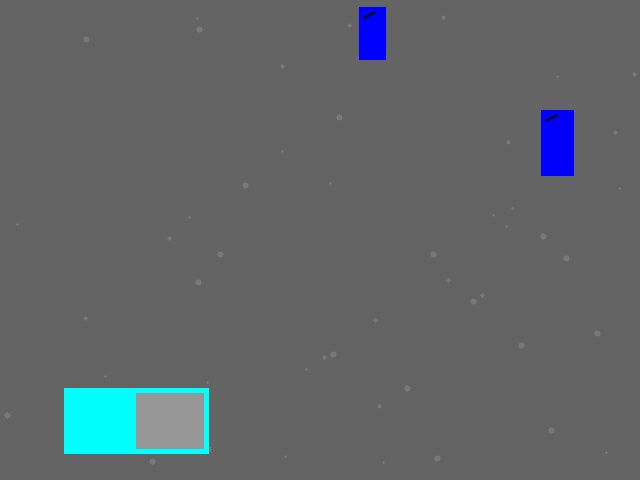motorcycle: (541, 110, 573, 175), (359, 7, 385, 59)
truck: (64, 388, 208, 453)
